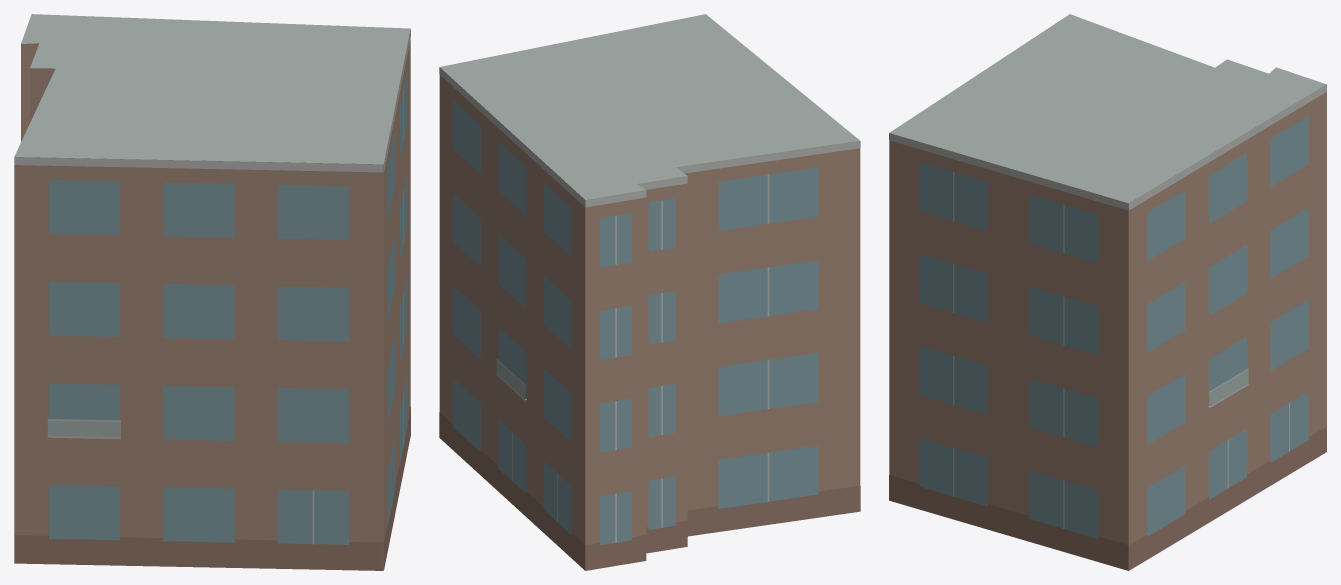
The model's file is survey-upis-32795432.glb.
3 views of the same model, side by side, from view 1: azimuth 30°, elevation 25°; view 2: azimuth 150°, elevation 25°; view 3: azimuth 270°, elevation 25° (orthographic). The views are drawn at different scales.
Visible parts, largest first — view 1: survey-upis-32795432.tmp; view 2: survey-upis-32795432.tmp; view 3: survey-upis-32795432.tmp.
Part boxes in pixels (x1,y1,x2,y2): survey-upis-32795432.tmp: [14, 14, 410, 570]; survey-upis-32795432.tmp: [439, 14, 860, 570]; survey-upis-32795432.tmp: [889, 14, 1326, 570].
Size of the model in its own units: 13.48 by 12.2 by 13.18.
